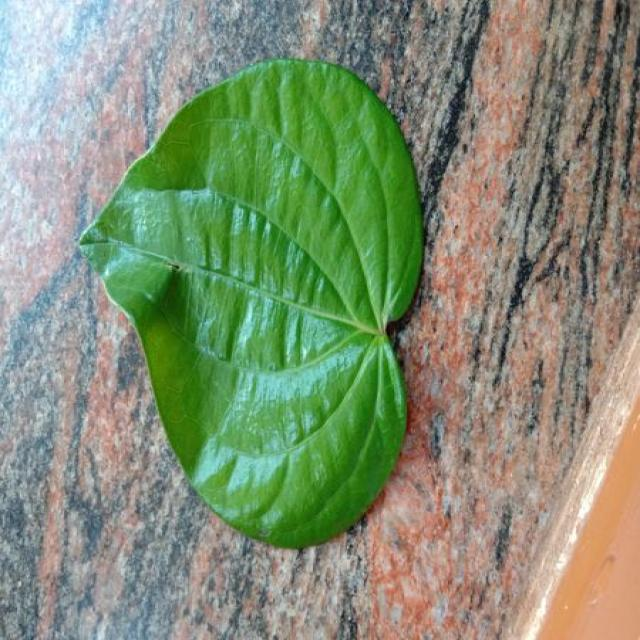betel: (80, 59, 423, 548)
